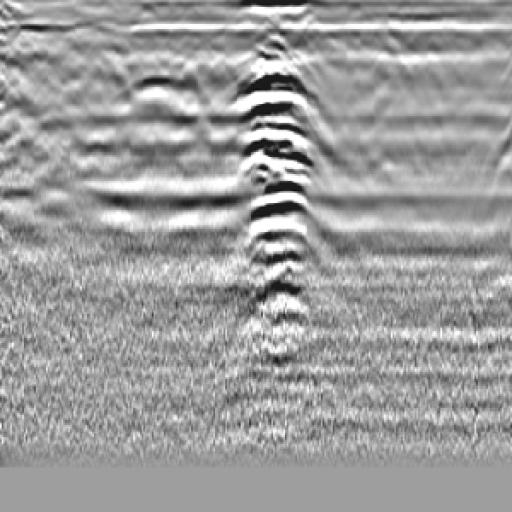metalic: (222, 43, 334, 358)
nonmetalic: (105, 52, 227, 167)
